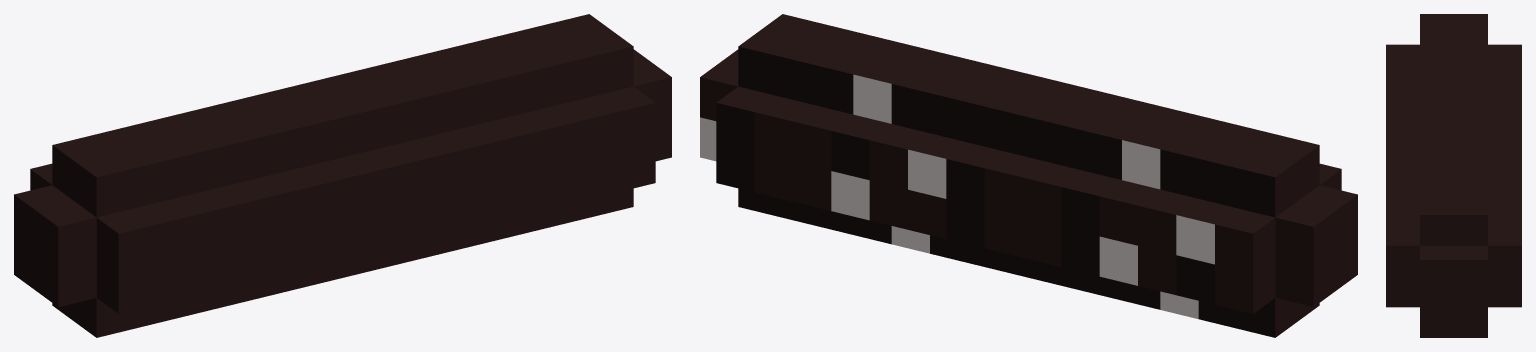
The model's file is Morcilla_Blood_Sausage.obj.
The picture shows the model from 3 angles, left to right: view 1: azimuth 30°, elevation 25°; view 2: azimuth 150°, elevation 25°; view 3: azimuth 270°, elevation 25°; orthographic projection. The views are drawn at different scales.
Parts seen in each view (by area): view 1: cap_1_2_2, body_2_2_3, body_2_3_2, body_2_1_3, cap_1_1_2, body_3_2_3, body_4_3_2, body_7_3_2, body_10_2_3, body_6_2_3, body_6_3_2, body_7_2_3 (+65 smaller); view 2: cap_1_2_1, body_2_2_0, body_2_3_1, body_2_1_0, cap_1_1_1, body_3_2_0, body_4_3_1, body_7_3_1, body_10_2_0, body_6_2_0, body_6_3_1, body_7_2_0 (+65 smaller); view 3: body_15_2_0, body_15_2_3, body_15_3_1, body_15_3_2, cap_16_2_1, cap_16_2_2, body_15_1_0, body_15_1_3, cap_16_1_1, cap_16_1_2, body_15_0_1, body_15_0_2 (+52 smaller).
Part boxes in pixels (left/top/right/bottom): cap_1_2_2: left=36, top=201, right=96, bottom=266; body_2_2_3: left=96, top=208, right=156, bottom=273; body_2_3_2: left=74, top=152, right=134, bottom=217; body_2_1_3: left=96, top=258, right=156, bottom=313; cap_1_1_2: left=36, top=251, right=96, bottom=306; body_3_2_3: left=135, top=199, right=195, bottom=264; body_4_3_2: left=151, top=133, right=211, bottom=198; body_7_3_2: left=266, top=105, right=326, bottom=170; body_10_2_3: left=404, top=133, right=463, bottom=198; body_6_2_3: left=250, top=171, right=310, bottom=236; body_6_3_2: left=228, top=114, right=288, bottom=179; body_7_2_3: left=288, top=161, right=348, bottom=226; cap_1_2_1: left=1275, top=201, right=1335, bottom=266; body_2_2_0: left=1215, top=208, right=1275, bottom=273; body_2_3_1: left=1237, top=152, right=1297, bottom=217; body_2_1_0: left=1215, top=258, right=1275, bottom=313; cap_1_1_1: left=1275, top=251, right=1335, bottom=306; body_3_2_0: left=1176, top=199, right=1236, bottom=264; body_4_3_1: left=1160, top=133, right=1220, bottom=198; body_7_3_1: left=1045, top=105, right=1105, bottom=170; body_10_2_0: left=908, top=133, right=967, bottom=198; body_6_2_0: left=1061, top=171, right=1121, bottom=236; body_6_3_1: left=1083, top=114, right=1143, bottom=179; body_7_2_0: left=1023, top=161, right=1083, bottom=226; body_15_2_0: left=1488, top=231, right=1521, bottom=276; body_15_2_3: left=1386, top=231, right=1419, bottom=276; body_15_3_1: left=1454, top=200, right=1487, bottom=245; body_15_3_2: left=1420, top=200, right=1453, bottom=245; cap_16_2_1: left=1454, top=245, right=1487, bottom=290; cap_16_2_2: left=1420, top=245, right=1453, bottom=290; body_15_1_0: left=1488, top=276, right=1521, bottom=307; body_15_1_3: left=1386, top=276, right=1419, bottom=307; cap_16_1_1: left=1454, top=290, right=1487, bottom=321; cap_16_1_2: left=1420, top=290, right=1453, bottom=321; body_15_0_1: left=1454, top=321, right=1487, bottom=337; body_15_0_2: left=1420, top=321, right=1453, bottom=337.
Bounding box in the file's own units: 1 × 0.25 × 0.25.
3 materials, 3 textured.
